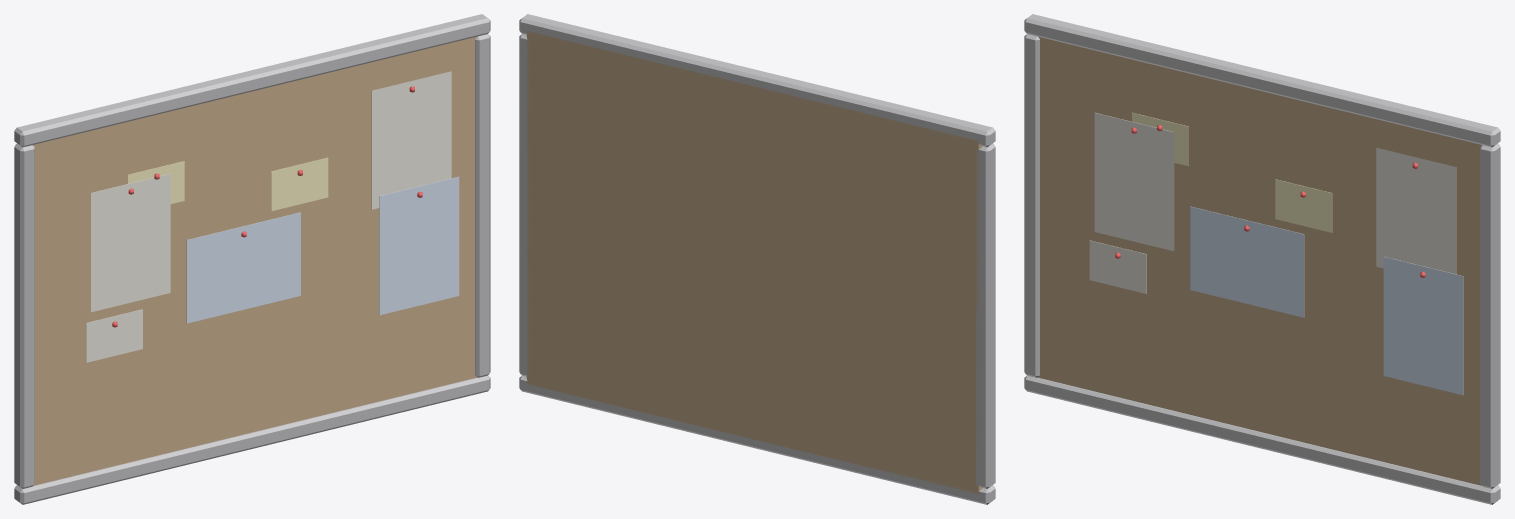
Rendered from notice_board.glb.
3 views of the same model, side by side, from view 1: azimuth 30°, elevation 25°; view 2: azimuth 150°, elevation 25°; view 3: azimuth 330°, elevation 25° (orthographic).
Visible parts, largest first — view 1: notice_board; view 2: notice_board; view 3: notice_board.
Boxes of the visible parts, <box> form: notice_board: <box>14,14,490,504</box>; notice_board: <box>519,14,995,504</box>; notice_board: <box>1024,14,1500,504</box>.
Bounding box in the file's own units: 1.24 × 0.94 × 0.0421.
